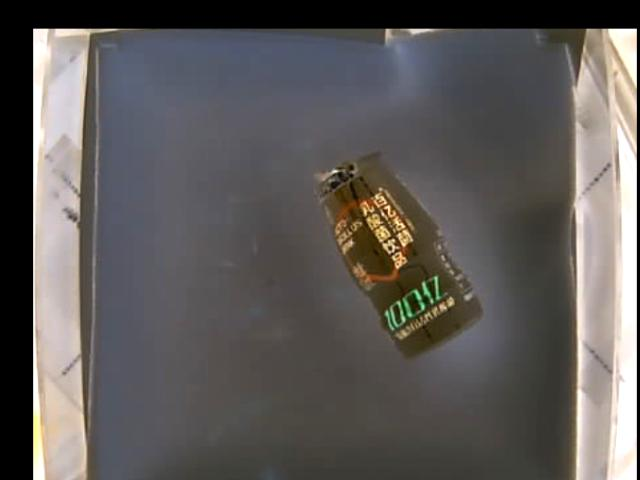Bottle: (312, 155, 484, 363)
